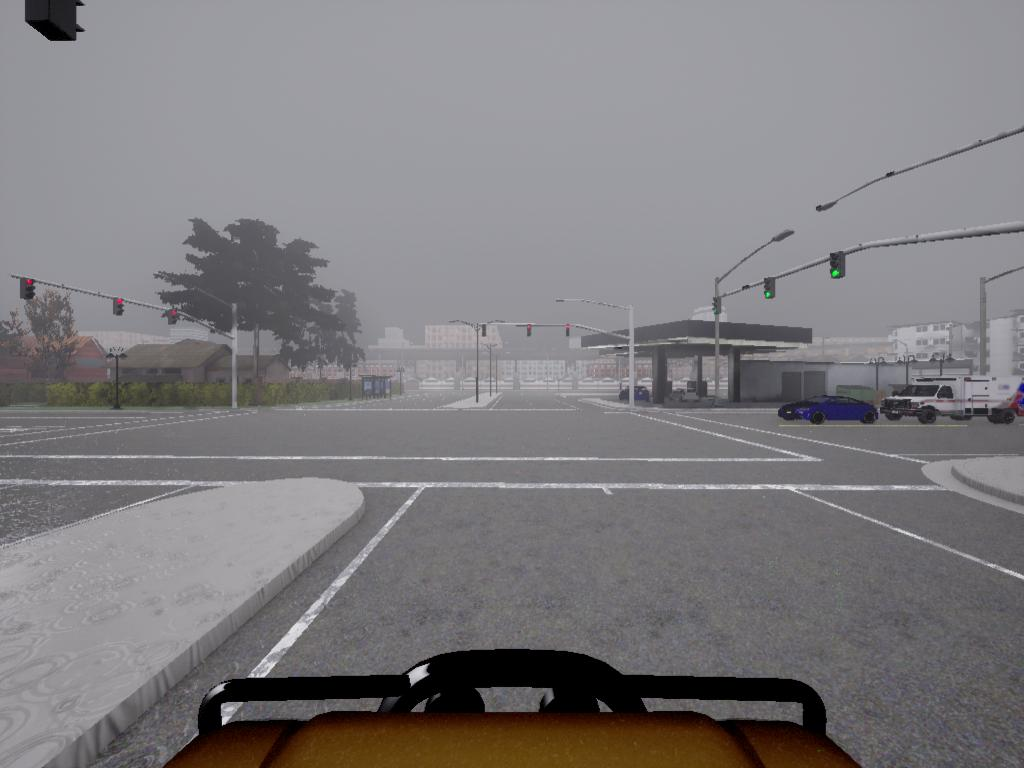traffic_light: (28, 1, 86, 42), (828, 256, 846, 281), (23, 278, 37, 301), (763, 279, 776, 301), (113, 299, 124, 319), (166, 310, 179, 326), (713, 297, 722, 318), (527, 325, 535, 337), (563, 325, 571, 337), (481, 325, 487, 341)
